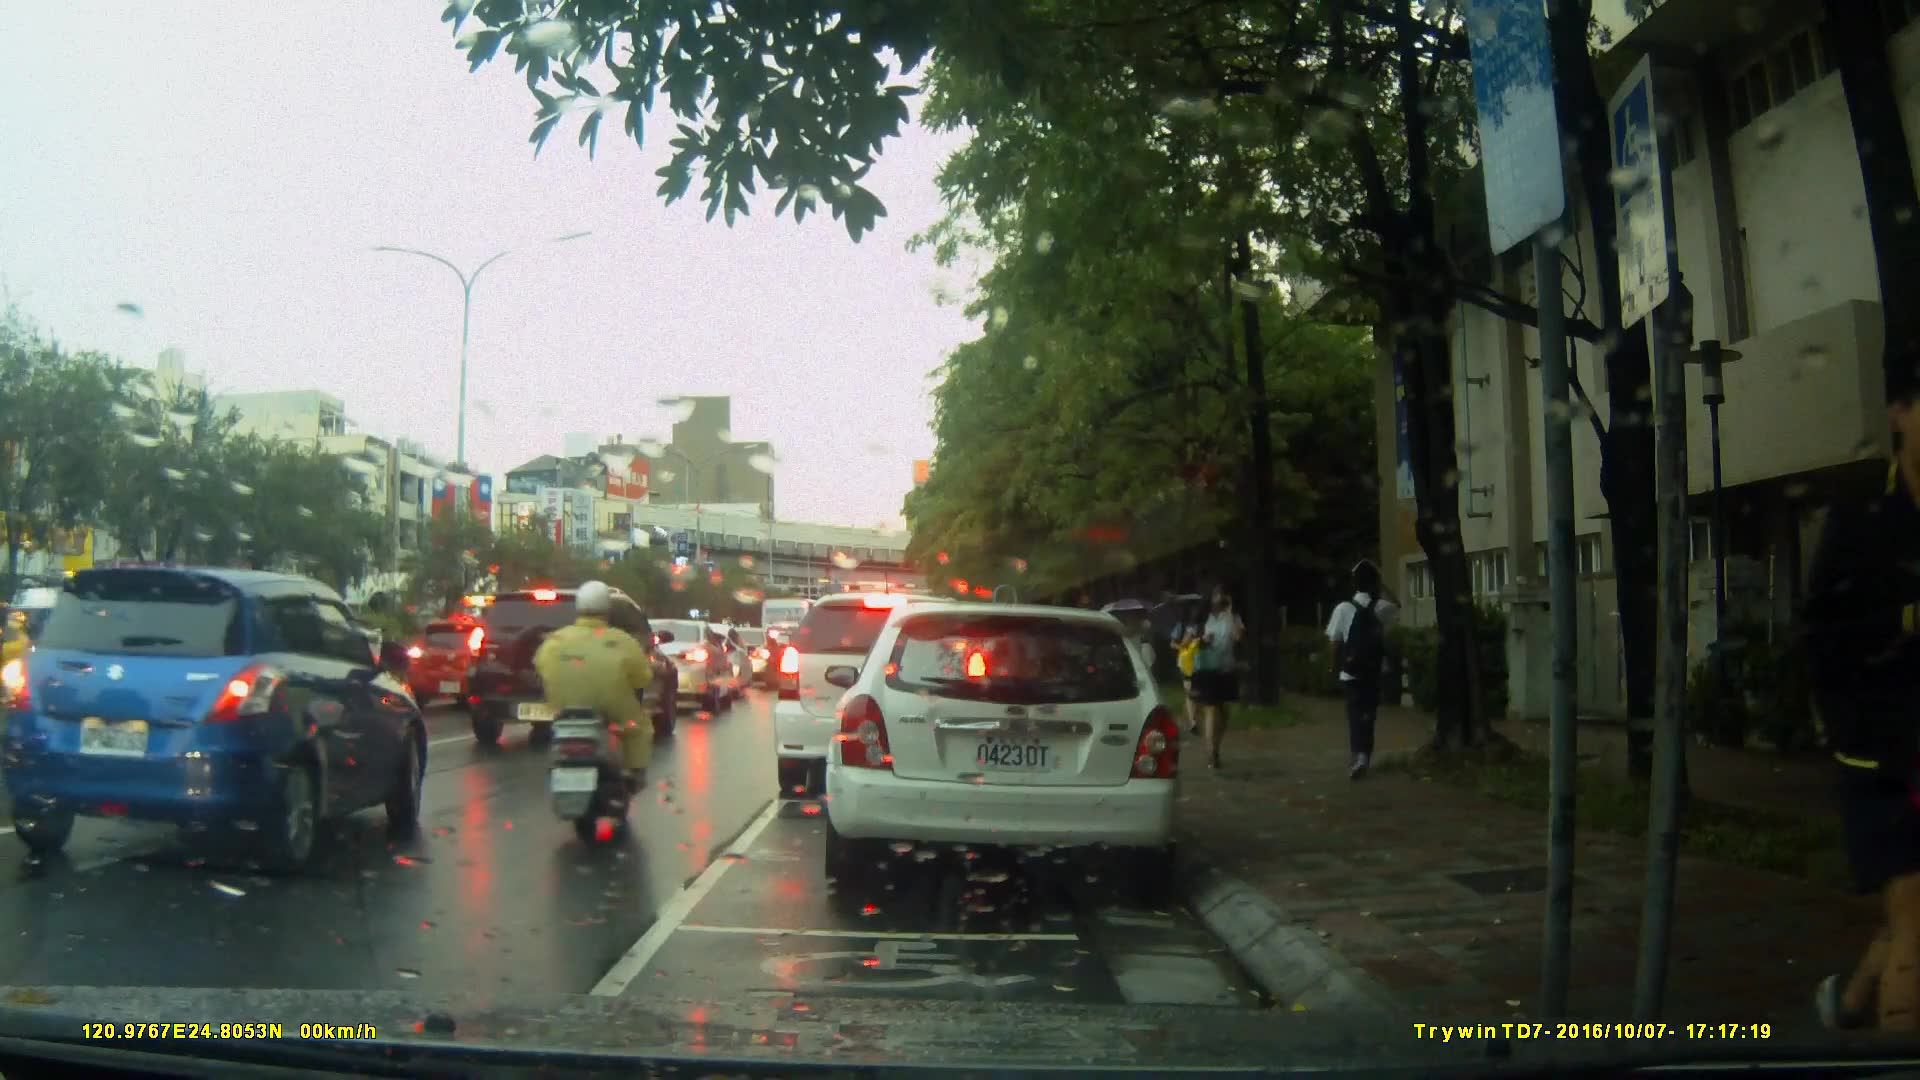pedestrian: (1809, 368, 1920, 1030), (1307, 550, 1417, 794), (1183, 563, 1250, 770), (1165, 588, 1209, 742)
rider: (535, 581, 660, 844)
vehicle: (6, 565, 427, 878), (815, 593, 1203, 905), (771, 590, 995, 802), (463, 587, 680, 750), (398, 613, 547, 711), (610, 617, 737, 716)
